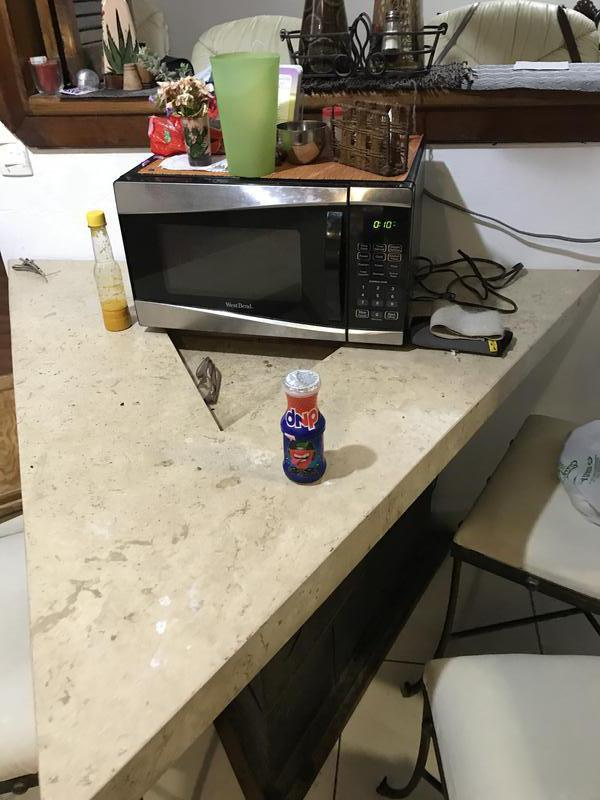danup: (279, 369, 331, 488)
